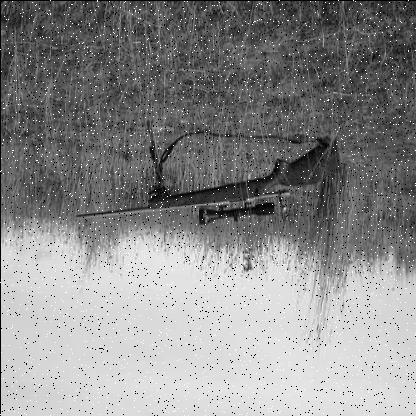rifle: (55, 101, 343, 246)
